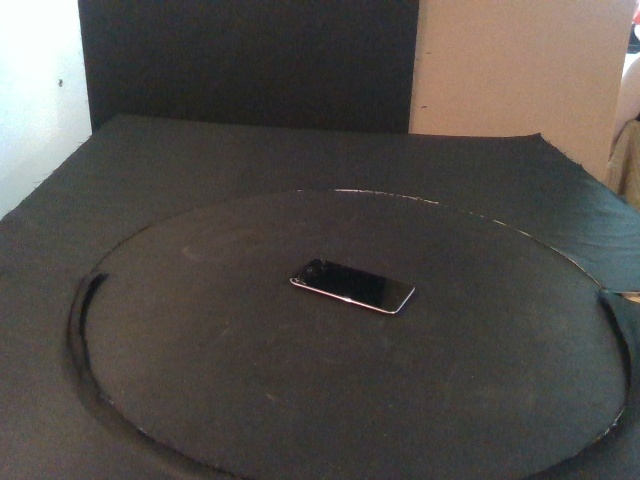phone: (288, 256, 417, 314)
